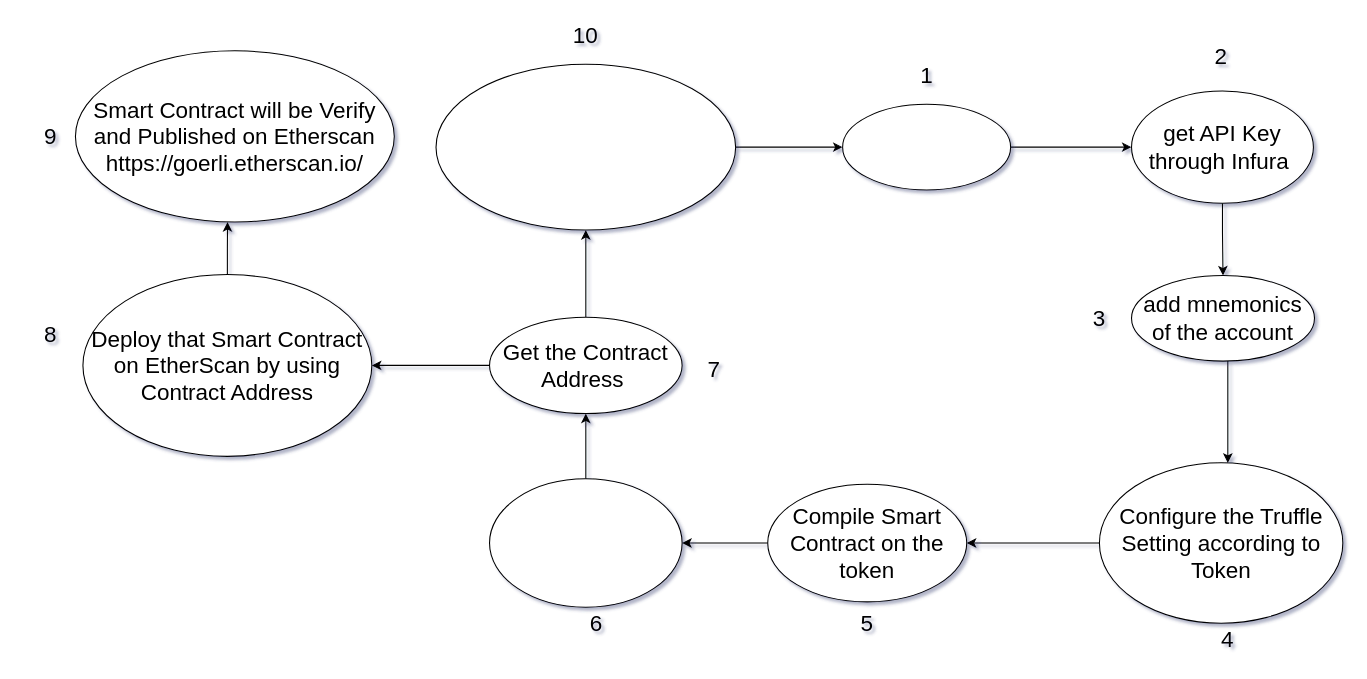
The diagram is 1367 pixels wide and 679 high, and some of its shapes have lost their labels. The box of each missing label's shape, as (x1, y1, x2, y2) in pixels:
Add Contract Address on Frontend to Connect with Smart Contrcat: (435, 63, 736, 230)
Deploy Smart Contract using token: (488, 478, 682, 607)
Smart Contract: (842, 103, 1011, 190)
